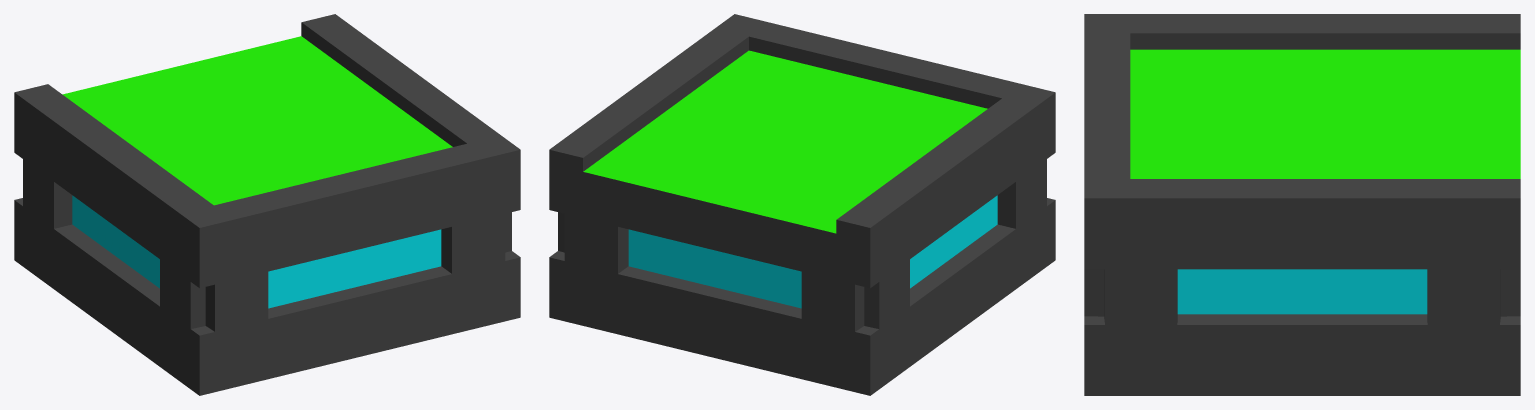
The model's file is Platform U.fbx.
3 views of the same model, side by side, from view 1: azimuth 30°, elevation 25°; view 2: azimuth 150°, elevation 25°; view 3: azimuth 270°, elevation 25° (orthographic). The views are drawn at different scales.
Parts seen in each view (by area): view 1: Platform U; view 2: Platform U; view 3: Platform U.
Part boxes in pixels (bbox=[...]): Platform U: bbox=[14, 14, 520, 395]; Platform U: bbox=[549, 14, 1055, 395]; Platform U: bbox=[1084, 14, 1520, 395].
Bounding box in the file's own units: 200 × 99.98 × 200.
